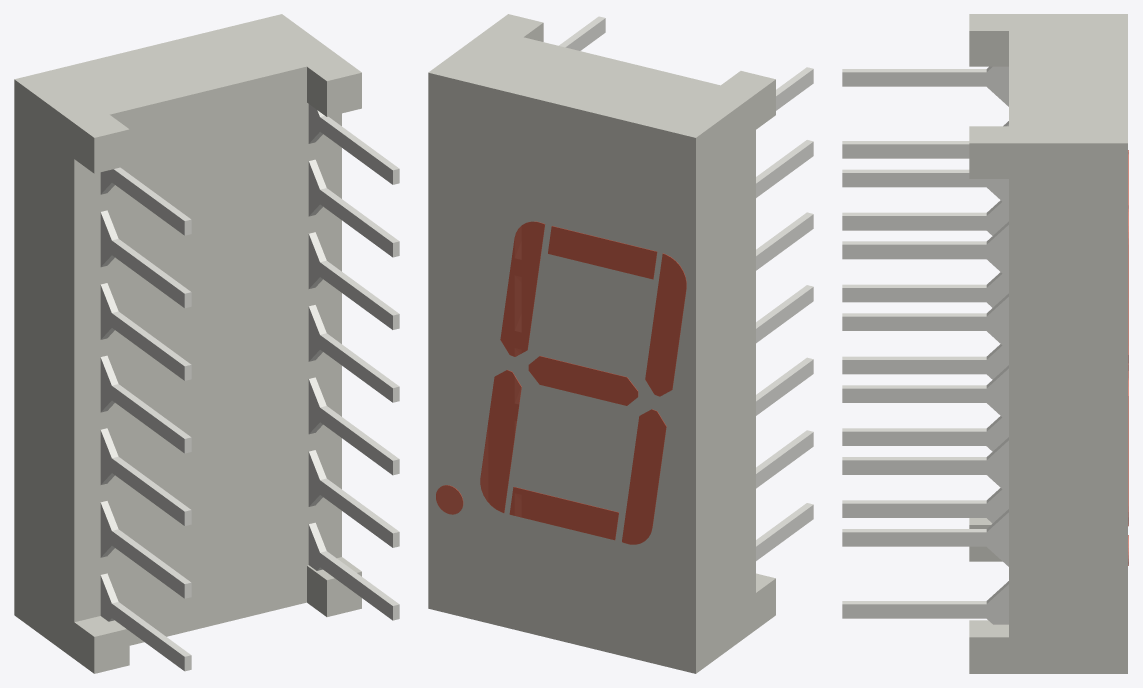
Rendered from MAN72A.glb.
3 views of the same model, side by side, from view 1: azimuth 30°, elevation 25°; view 2: azimuth 150°, elevation 25°; view 3: azimuth 270°, elevation 25° (orthographic).
Visible parts, largest first — view 1: Shape_IndexedFaceSet.010, Shape_IndexedFaceSet.006, Shape_IndexedFaceSet, Shape_IndexedFaceSet.012, Shape_IndexedFaceSet.065, Shape_IndexedFaceSet.003, Shape_IndexedFaceSet.069, Shape_IndexedFaceSet.014, Shape_IndexedFaceSet.005, Shape_IndexedFaceSet.001, Shape_IndexedFaceSet.194, Shape_IndexedFaceSet.199 (+16 smaller); view 2: Shape_IndexedFaceSet.007, Shape_IndexedFaceSet.006, Shape_IndexedFaceSet, Shape_IndexedFaceSet.128, Shape_IndexedFaceSet.131, Shape_IndexedFaceSet.134, Shape_IndexedFaceSet.135, Shape_IndexedFaceSet.129, Shape_IndexedFaceSet.132, Shape_IndexedFaceSet.130, Shape_IndexedFaceSet.215, Shape_IndexedFaceSet.194 (+6 smaller); view 3: Shape_IndexedFaceSet.008, Shape_IndexedFaceSet, Shape_IndexedFaceSet.239, Shape_IndexedFaceSet.236, Shape_IndexedFaceSet.196, Shape_IndexedFaceSet.207, Shape_IndexedFaceSet.227, Shape_IndexedFaceSet.203, Shape_IndexedFaceSet.211, Shape_IndexedFaceSet.213, Shape_IndexedFaceSet.232, Shape_IndexedFaceSet.191 (+21 smaller).
Boxes of the visible parts, x1,y1,x2,y2 form: Shape_IndexedFaceSet.010: [109, 102, 306, 608]; Shape_IndexedFaceSet.006: [14, 79, 94, 673]; Shape_IndexedFaceSet: [15, 14, 361, 137]; Shape_IndexedFaceSet.012: [74, 159, 109, 622]; Shape_IndexedFaceSet.065: [307, 103, 341, 565]; Shape_IndexedFaceSet.003: [110, 66, 306, 145]; Shape_IndexedFaceSet.069: [129, 565, 306, 645]; Shape_IndexedFaceSet.014: [94, 629, 129, 673]; Shape_IndexedFaceSet.005: [94, 129, 129, 173]; Shape_IndexedFaceSet.001: [327, 72, 361, 116]; Shape_IndexedFaceSet.194: [112, 604, 184, 670]; Shape_IndexedFaceSet.199: [112, 241, 184, 307]; Shape_IndexedFaceSet.007: [428, 72, 695, 673]; Shape_IndexedFaceSet.006: [696, 79, 775, 673]; Shape_IndexedFaceSet: [428, 14, 775, 137]; Shape_IndexedFaceSet.128: [645, 254, 686, 396]; Shape_IndexedFaceSet.131: [622, 409, 666, 544]; Shape_IndexedFaceSet.134: [480, 370, 521, 512]; Shape_IndexedFaceSet.135: [500, 221, 544, 356]; Shape_IndexedFaceSet.129: [548, 226, 656, 279]; Shape_IndexedFaceSet.132: [509, 487, 618, 540]; Shape_IndexedFaceSet.130: [528, 356, 637, 405]; Shape_IndexedFaceSet.215: [756, 287, 813, 343]; Shape_IndexedFaceSet.194: [756, 505, 813, 560]; Shape_IndexedFaceSet.008: [969, 143, 1127, 673]; Shape_IndexedFaceSet: [969, 14, 1127, 143]; Shape_IndexedFaceSet.239: [842, 244, 986, 259]; Shape_IndexedFaceSet.236: [842, 316, 986, 330]; Shape_IndexedFaceSet.196: [842, 503, 985, 517]; Shape_IndexedFaceSet.207: [842, 431, 986, 445]; Shape_IndexedFaceSet.227: [842, 388, 985, 402]; Shape_IndexedFaceSet.203: [842, 216, 986, 230]; Shape_IndexedFaceSet.211: [842, 360, 985, 374]; Shape_IndexedFaceSet.213: [842, 288, 986, 302]; Shape_IndexedFaceSet.232: [842, 460, 986, 474]; Shape_IndexedFaceSet.191: [842, 72, 986, 86].
Bounding box in the file's own units: 3.86 × 7.38 × 3.61.
